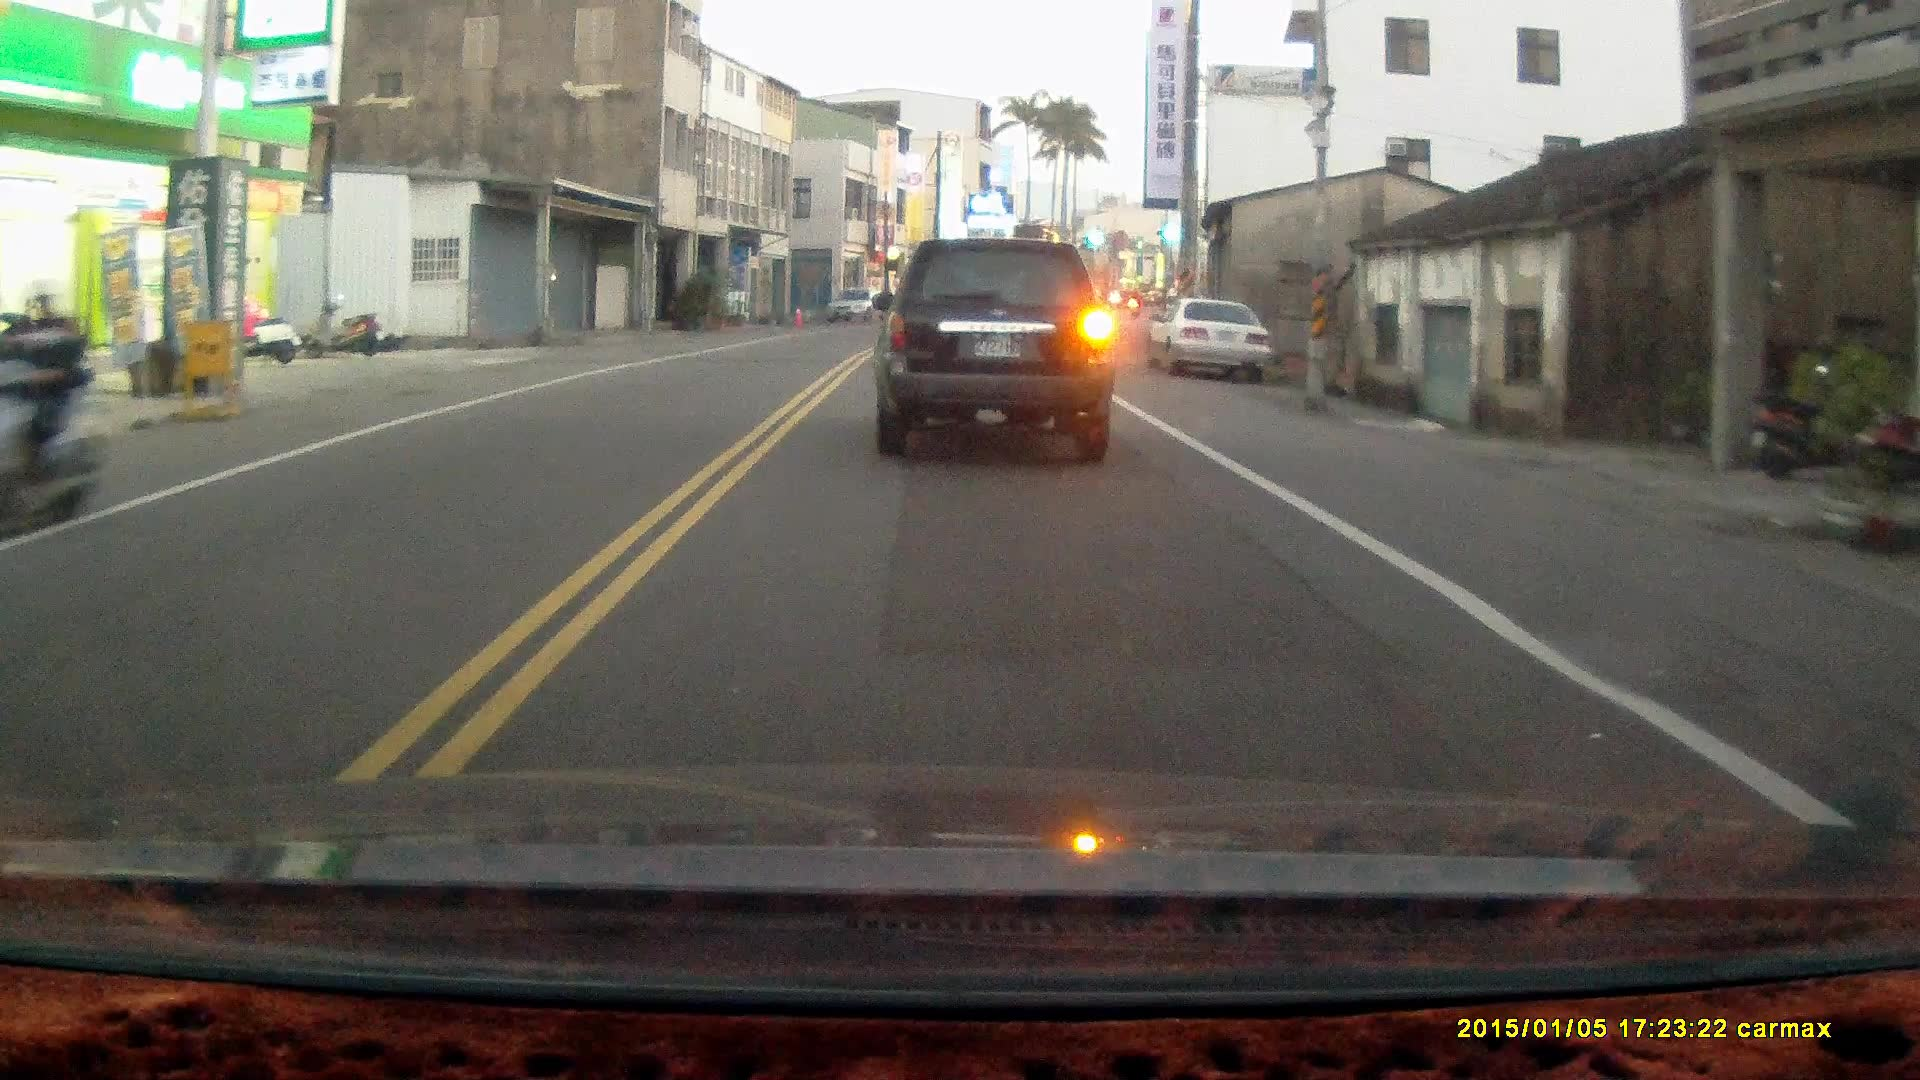rider: (0, 280, 106, 548)
vehicle: (875, 235, 1121, 465), (1150, 303, 1269, 386), (827, 293, 887, 335)
